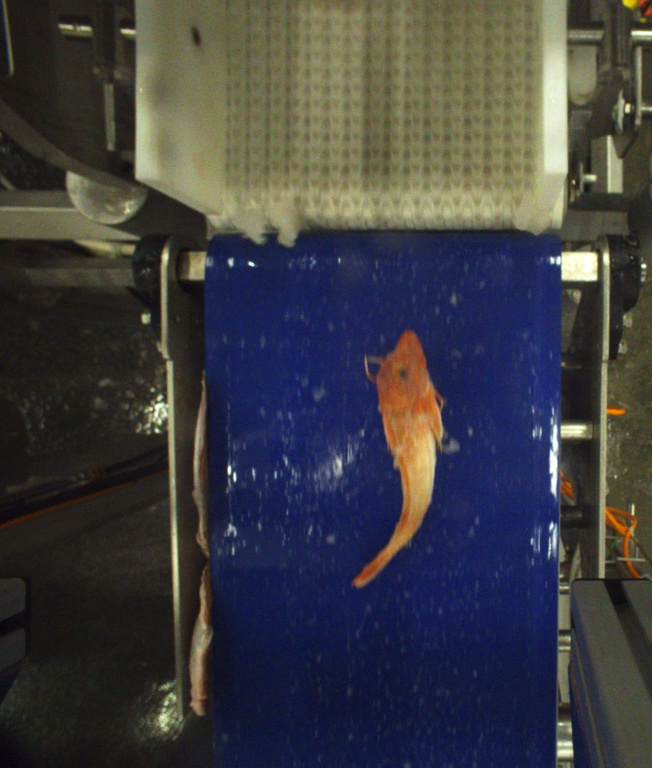GUU: (349, 329, 443, 589)
